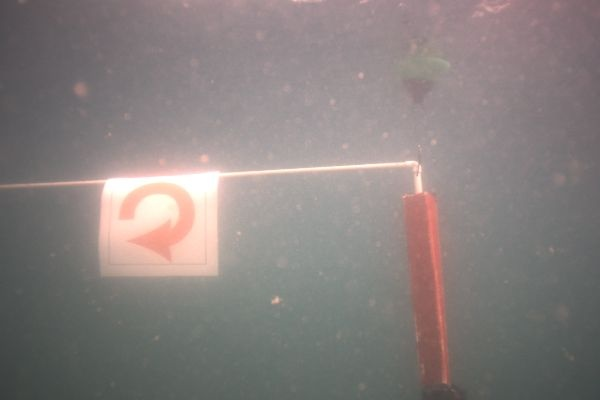gate: (0, 160, 450, 400)
gate_rouge: (96, 173, 219, 277)
